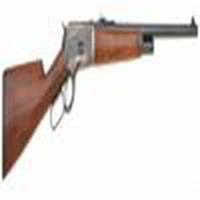gun: (1, 16, 200, 170)
